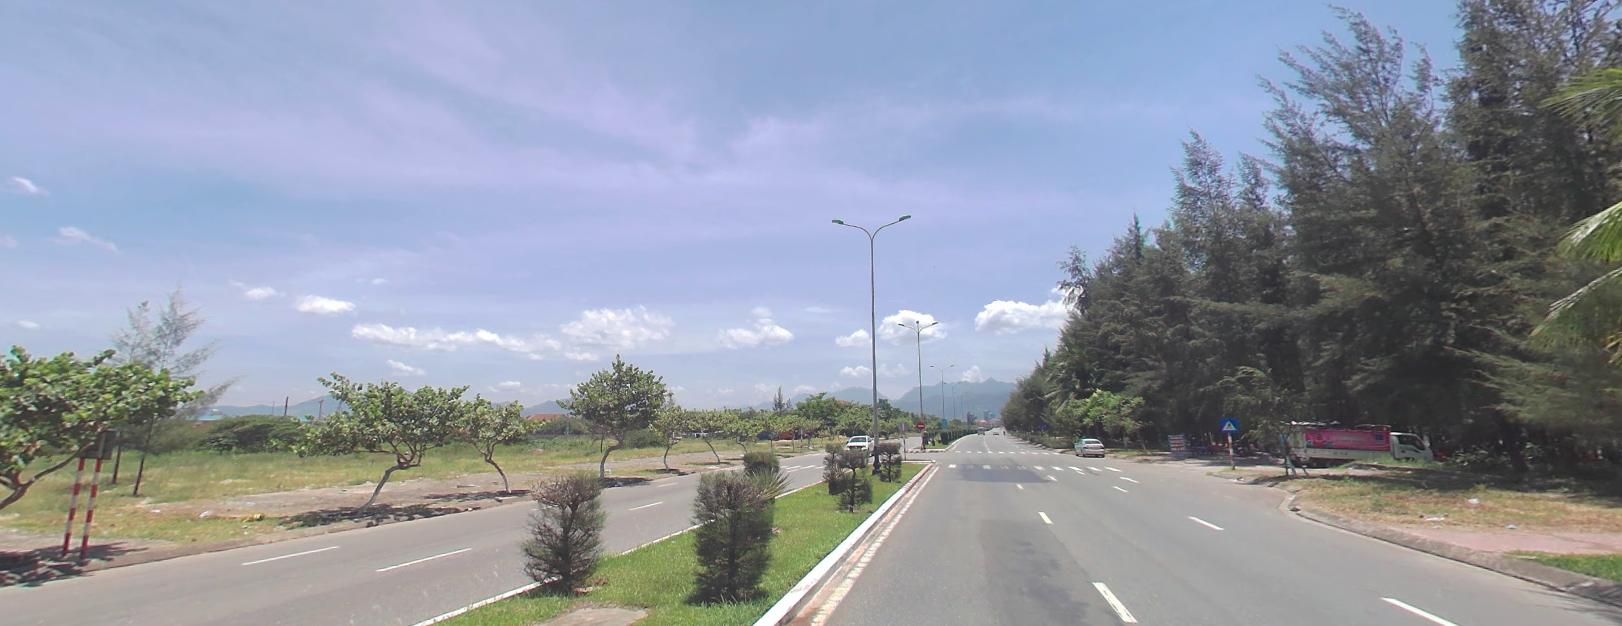Cam nguoc chieu: (915, 419, 927, 429)
